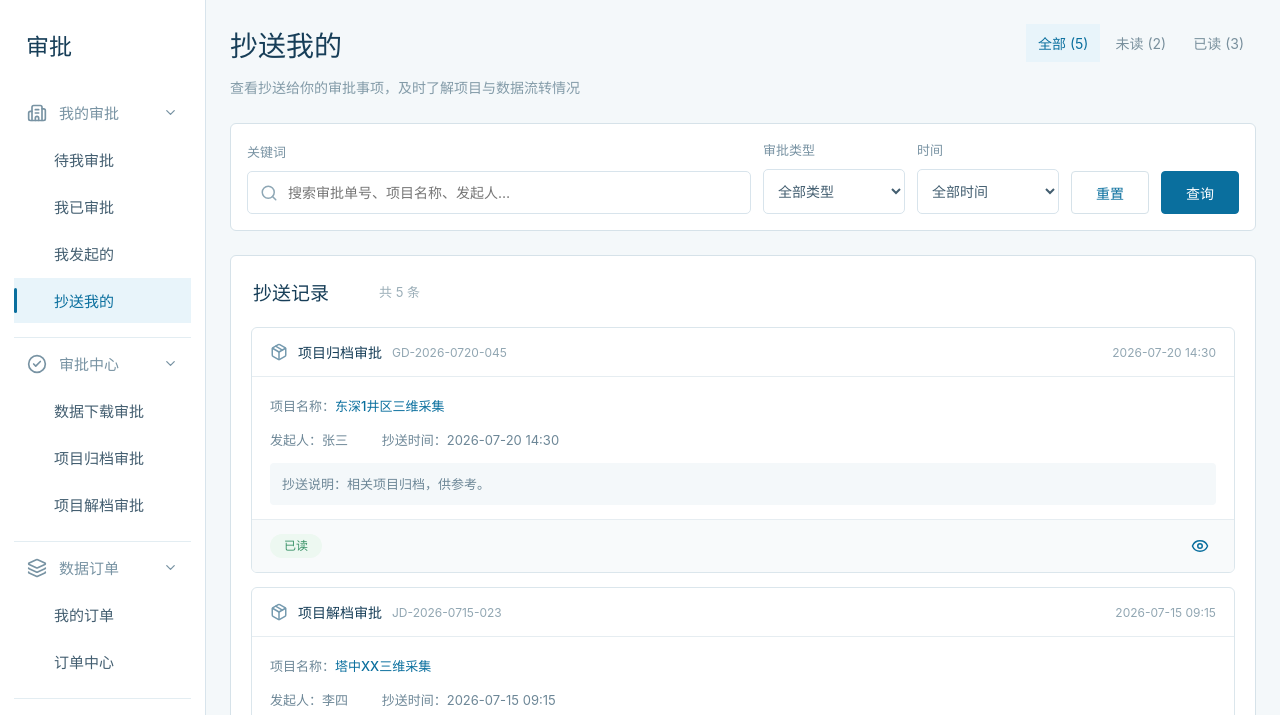
Test case: 审批关键词、类型、状态与详情 › 抄送筛选未读，详情使记录已读，关键词可匹配发起人
Click the button "未读 (2)": point(1141, 43) [1104, 24, 1178, 62]
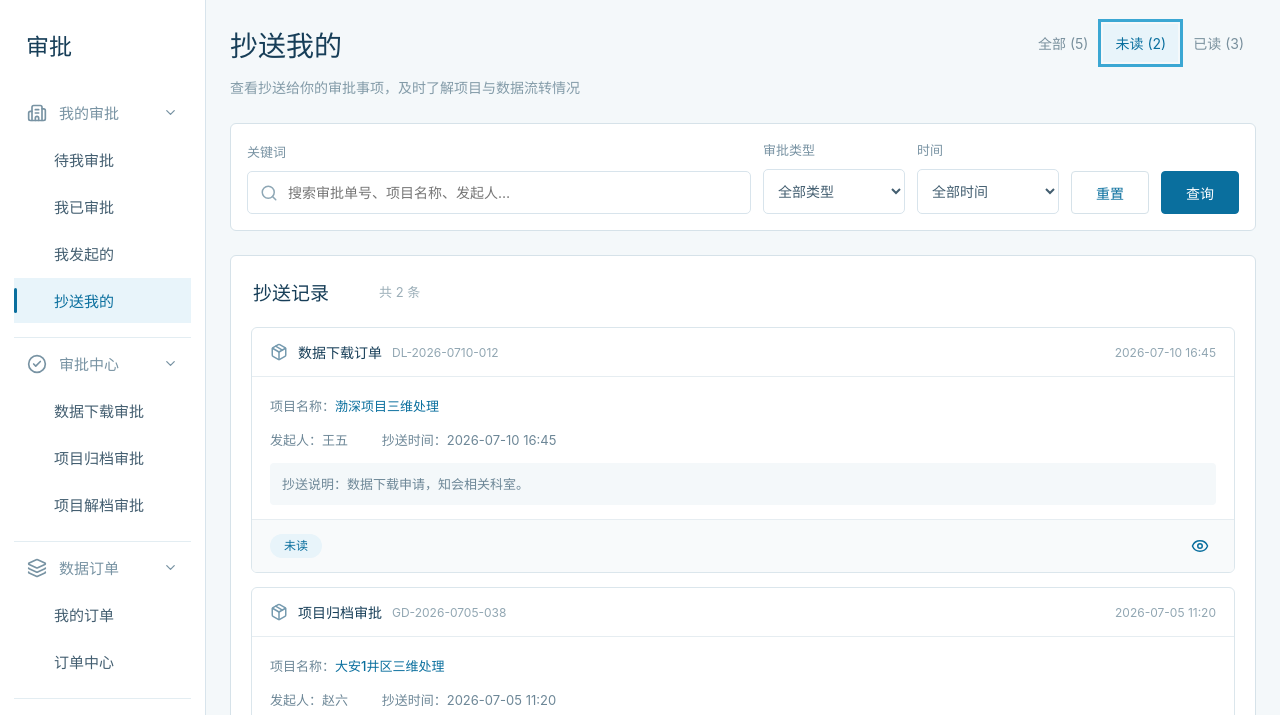
Check: the number of buttons named "查看详情" is 2
Click the button named "查看详情": point(1200, 546) [1184, 530, 1216, 562]
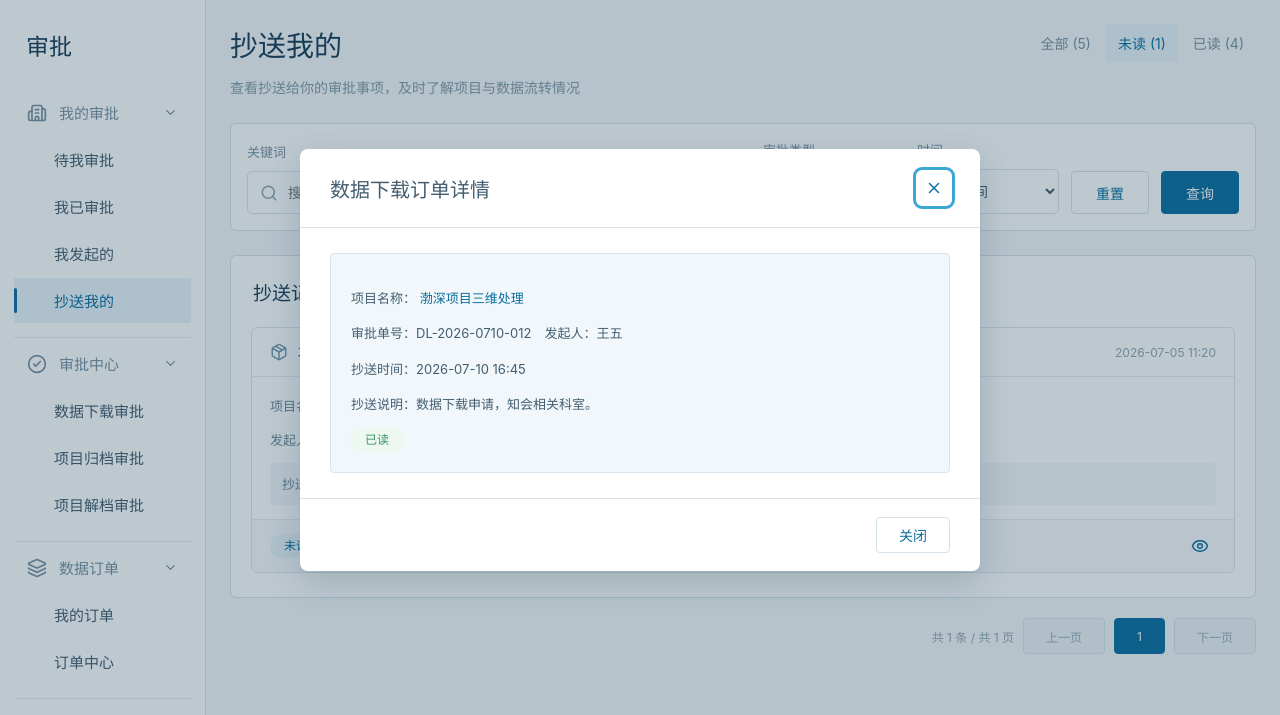
Check: the dialog shows "已读", box [365, 432, 389, 447]
Press Escape
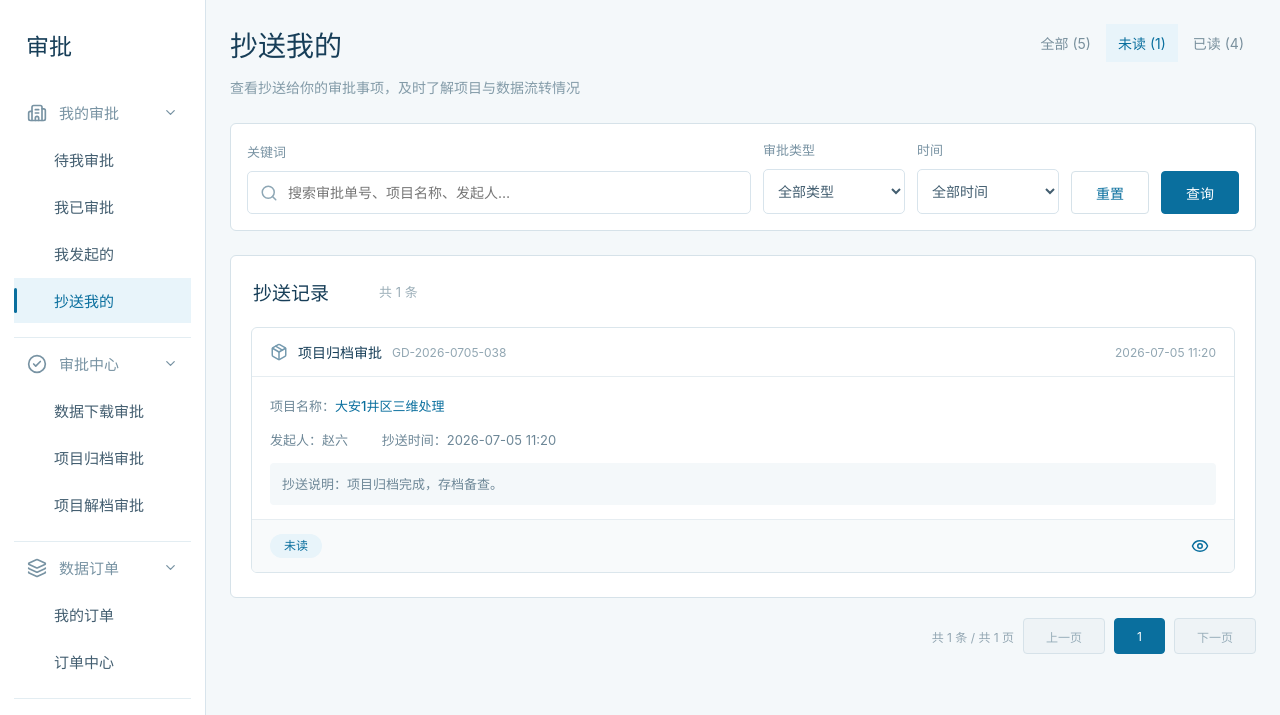
Check: the number of buttons named "查看详情" is 1, box [1184, 530, 1216, 562]
Click the button "重置": point(1110, 193) [1071, 171, 1149, 214]
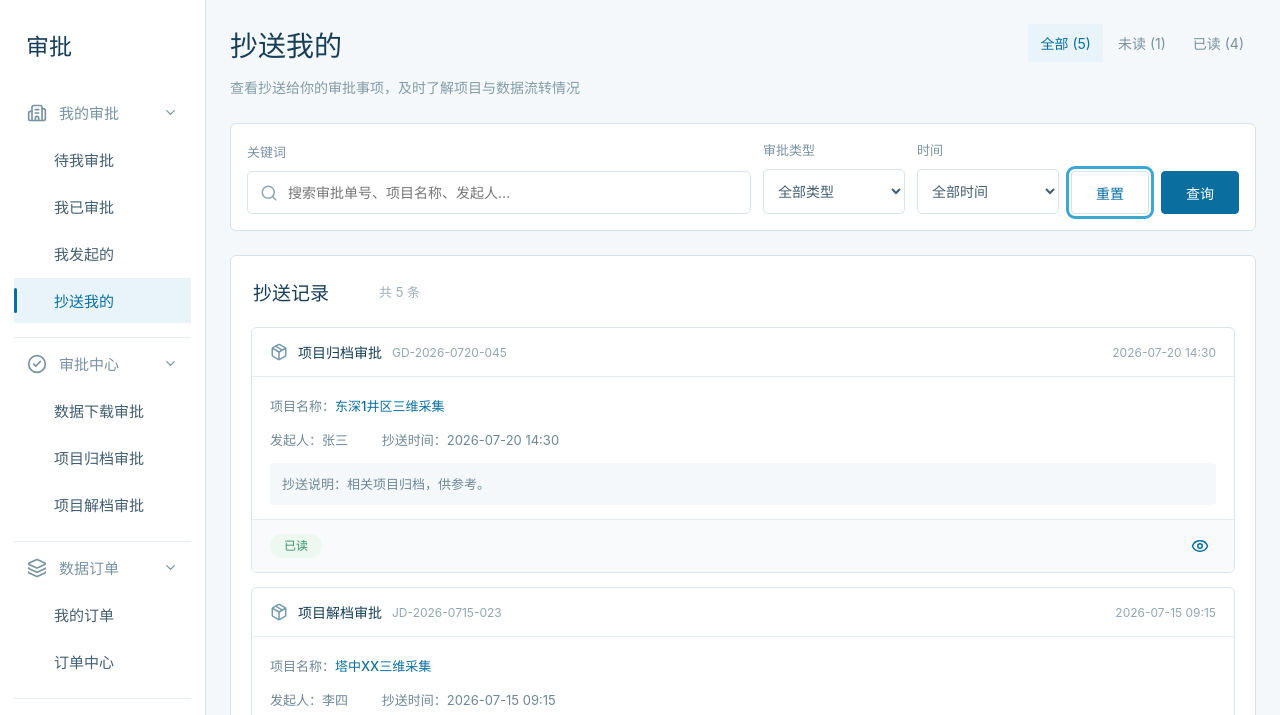
In the field named "审批关键词": point(513, 193) [288, 172, 738, 213], type "张三"
Then press Enter
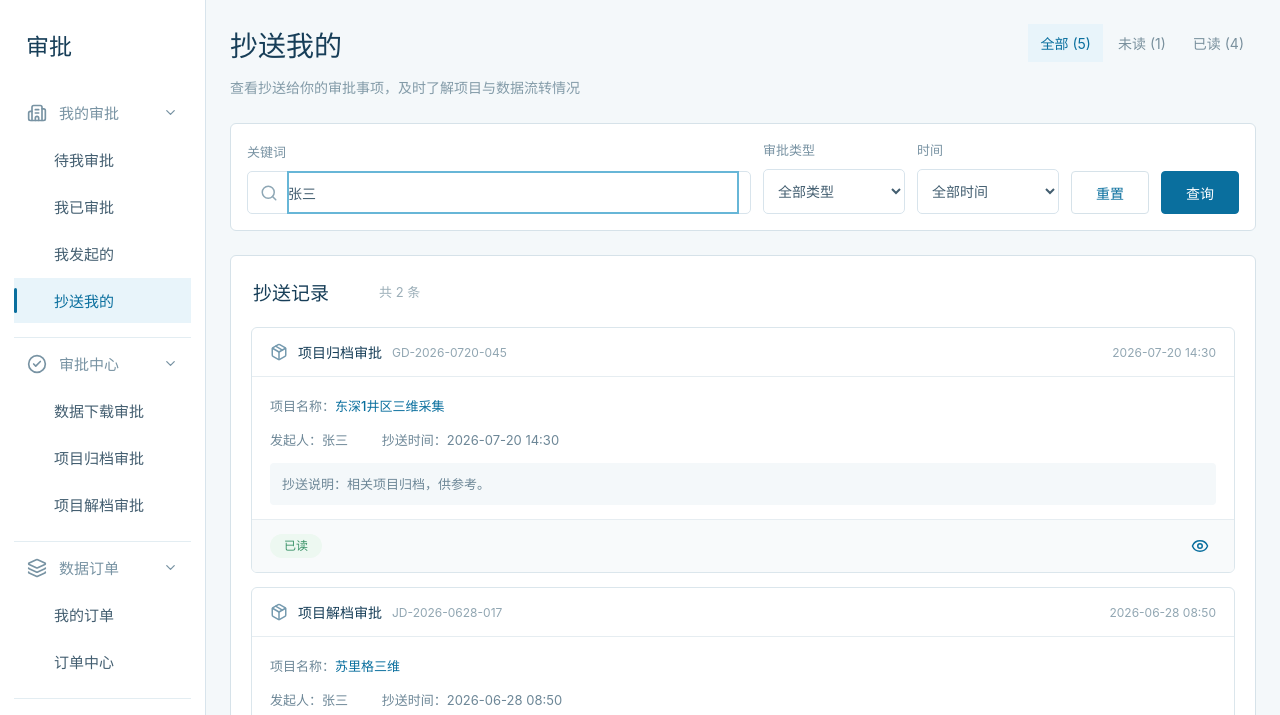
Check: the number of buttons named "查看详情" is 2
